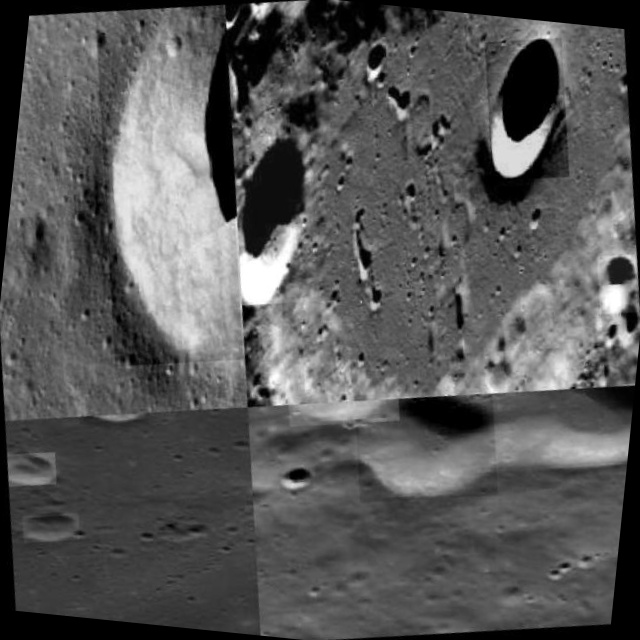crater: (66, 16, 248, 387), (362, 376, 514, 498), (215, 136, 316, 314), (497, 352, 640, 455), (456, 15, 554, 164), (298, 390, 410, 430), (589, 223, 636, 286), (44, 536, 103, 572), (22, 478, 74, 517), (90, 430, 159, 448), (294, 466, 331, 496)
